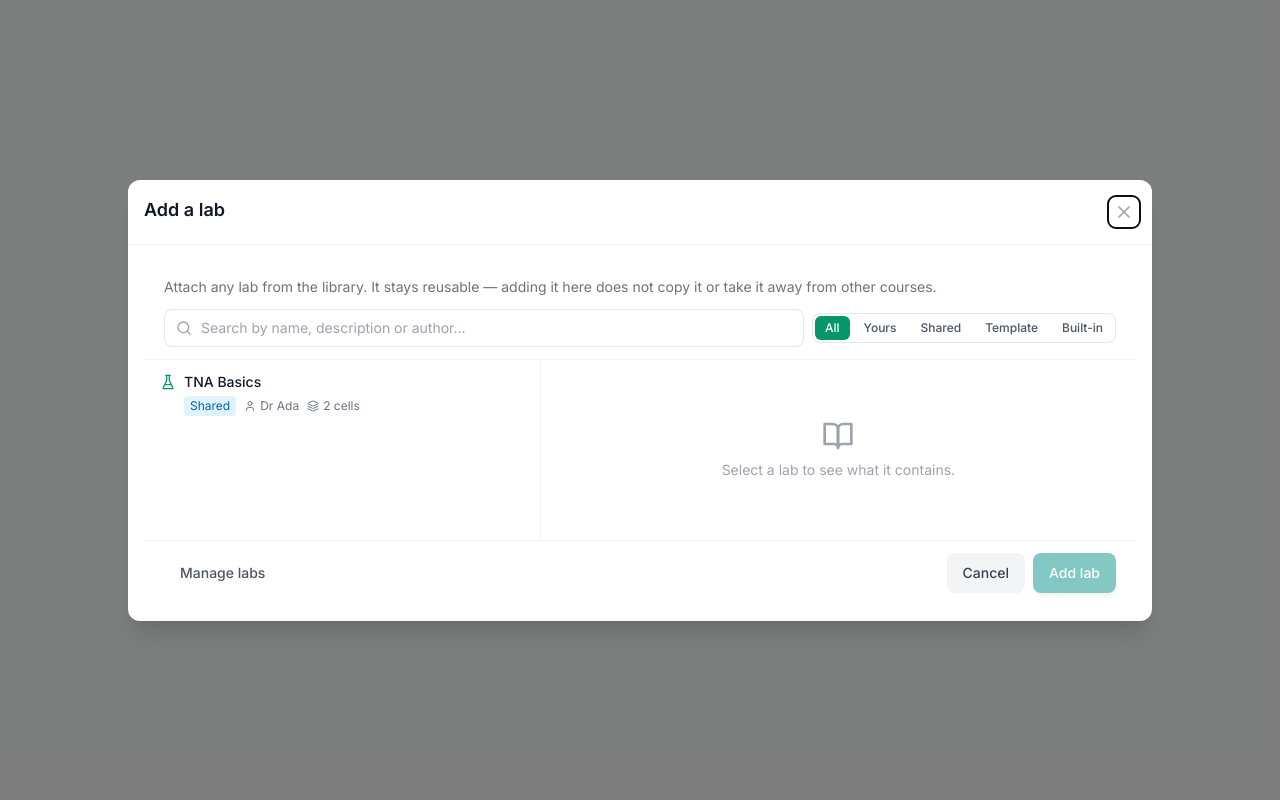
Scenario: LabPickerModal library › says so when nothing matches instead of showing an empty list
Type "zzzz" into the field with placeholder "Search by name, description or author…" at (484, 328), box [164, 308, 804, 346]
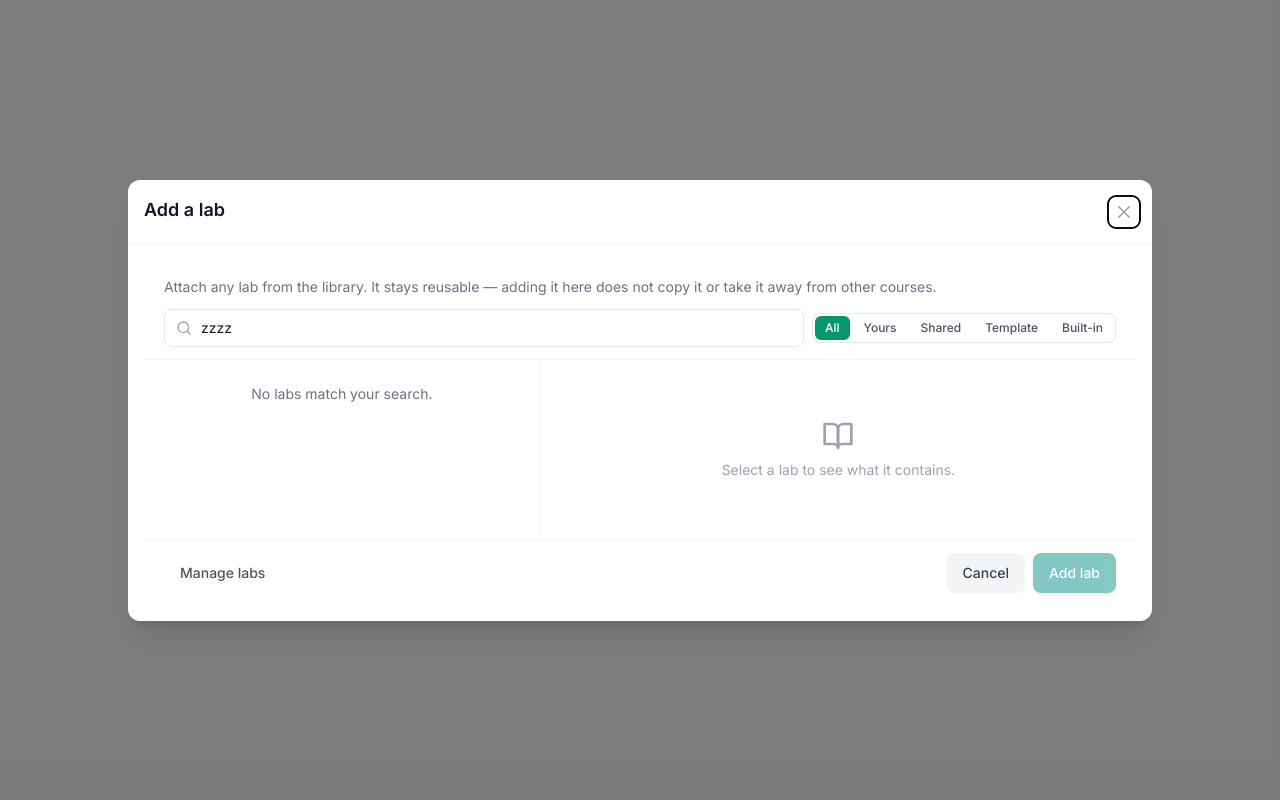
Now the text "No labs match your search." is shown, box [251, 384, 432, 402]
